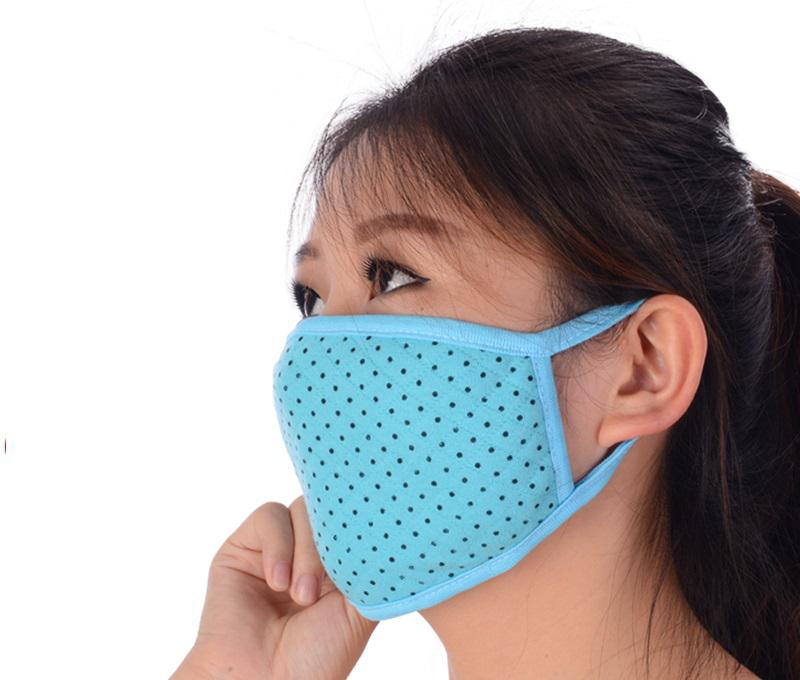OK: (260, 205, 659, 604)
